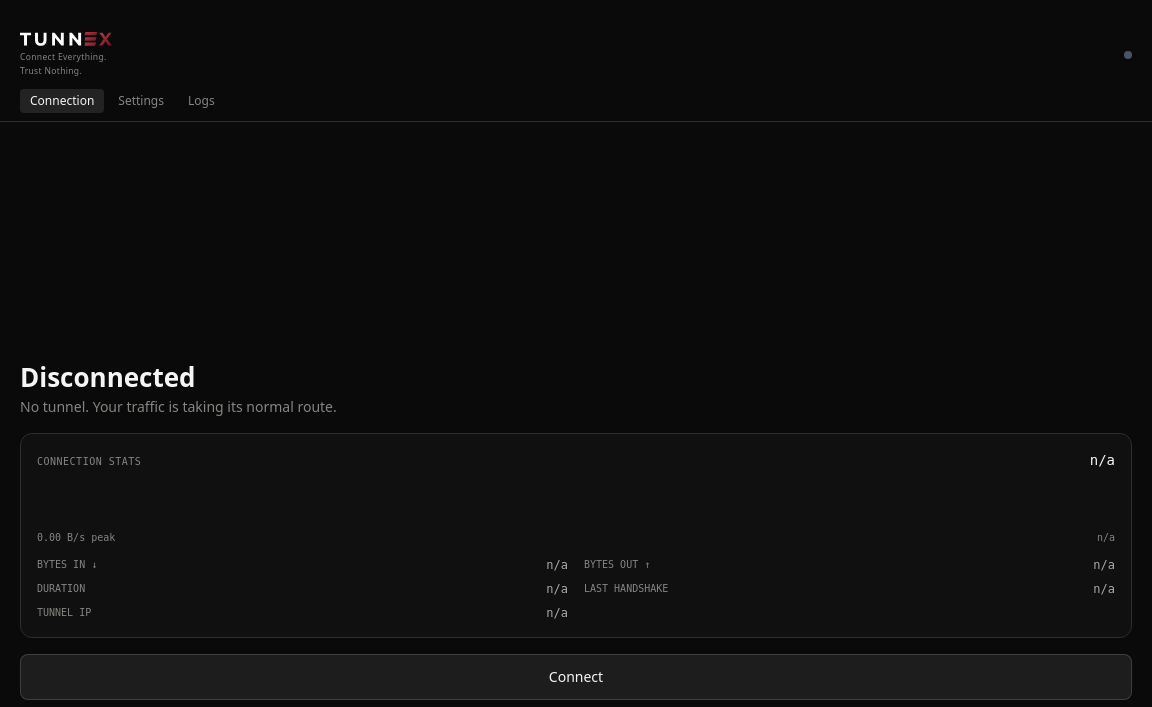
Test: routing mode and the server, both reachable and both unambiguous › ⛔ the sign-out cost is stated BEFORE the switch, not discovered after
Click the button "Settings". click: click(141, 101)
box: top-left (108, 89), bottom-right (174, 113)
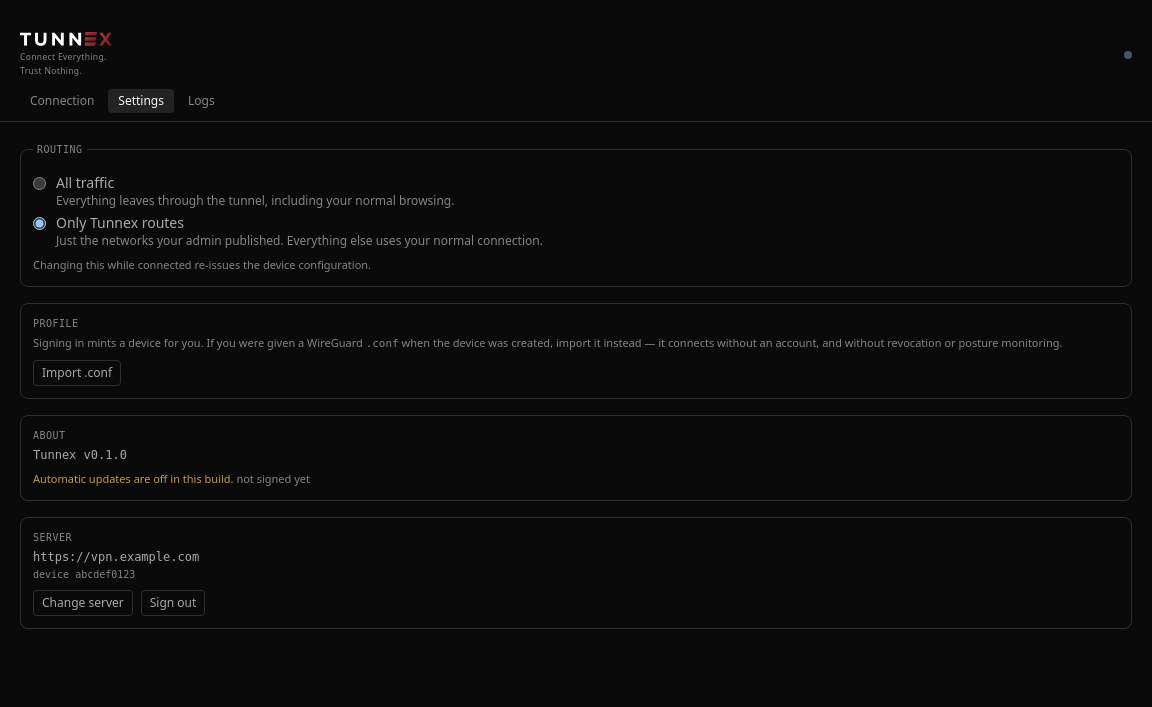
Click the button "Change server". click: click(83, 603)
box: top-left (33, 590), bottom-right (133, 616)
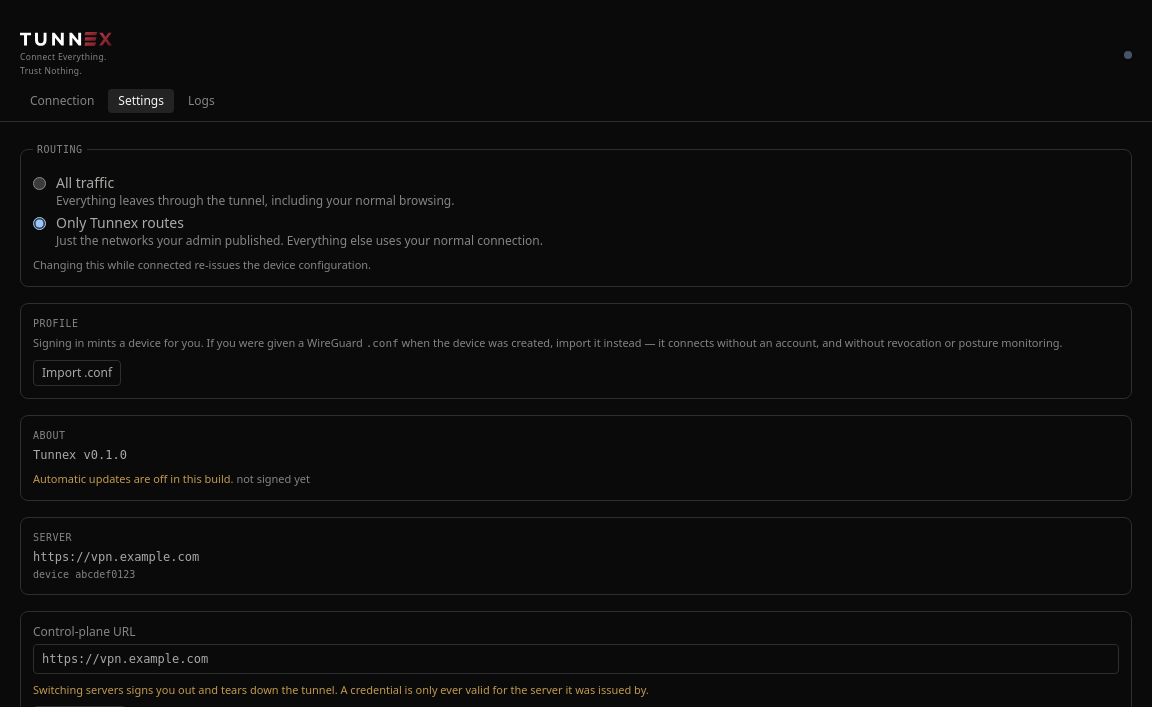
Now the text "signs you out and tears down the tunnel" is shown, box top-left (33, 682), bottom-right (649, 697)
